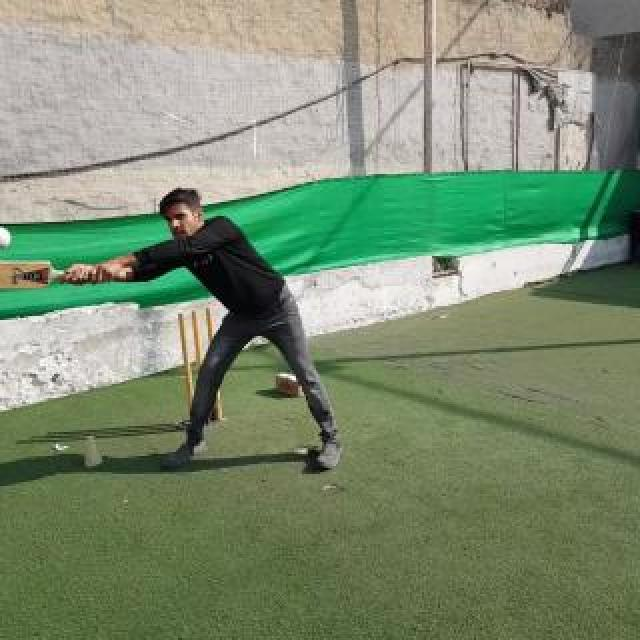ball: (0, 224, 12, 252)
bat: (0, 260, 126, 290)
